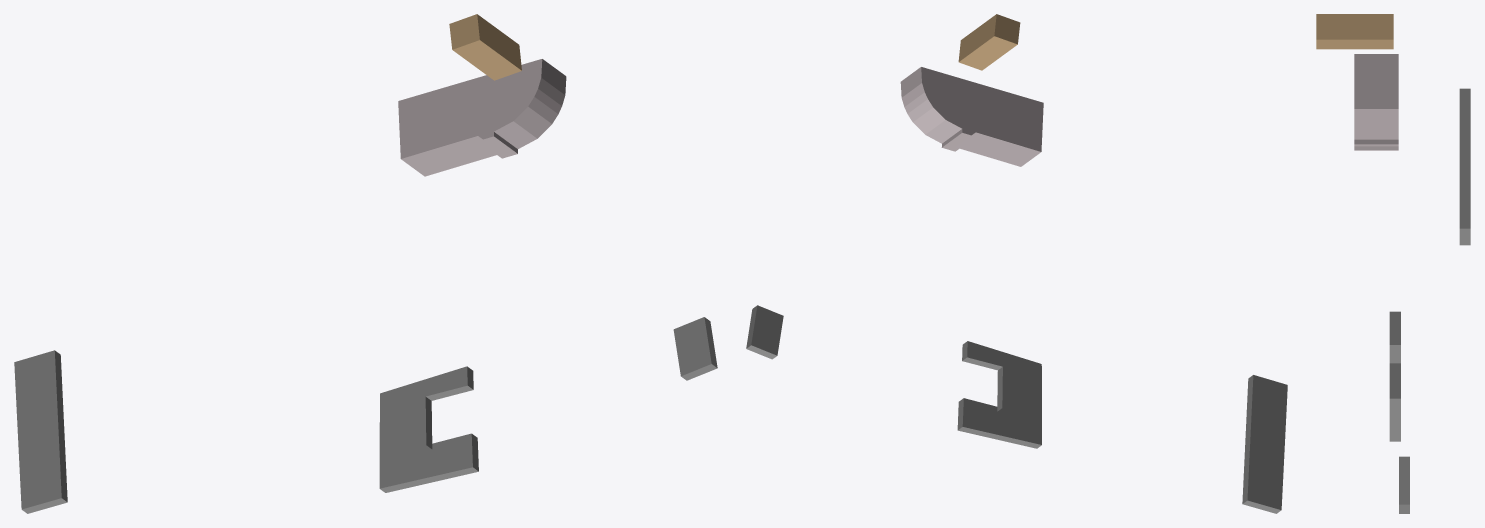
The picture shows the model from 3 angles, left to right: view 1: azimuth 30°, elevation 25°; view 2: azimuth 150°, elevation 25°; view 3: azimuth 270°, elevation 25°; orthographic projection. The views are drawn at different scales.
Parts seen in each view (by area): view 1: 0_0_3_2_0_1_1; view 2: 0_0_3_2_0_1_1; view 3: 0_0_3_2_0_1_1.
Boxes of the visible parts, x1,y1,x2,y2 form: 0_0_3_2_0_1_1: [14, 14, 717, 513]; 0_0_3_2_0_1_1: [746, 14, 1287, 513]; 0_0_3_2_0_1_1: [1316, 14, 1470, 513].
Bounding box in the file's own units: 191 × 125 × 42.
